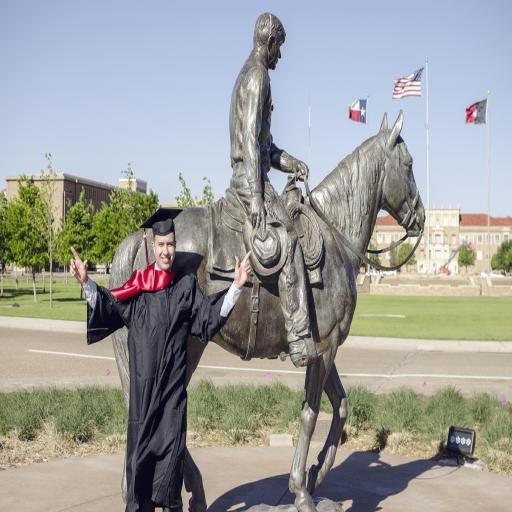horse: (107, 104, 427, 512)
